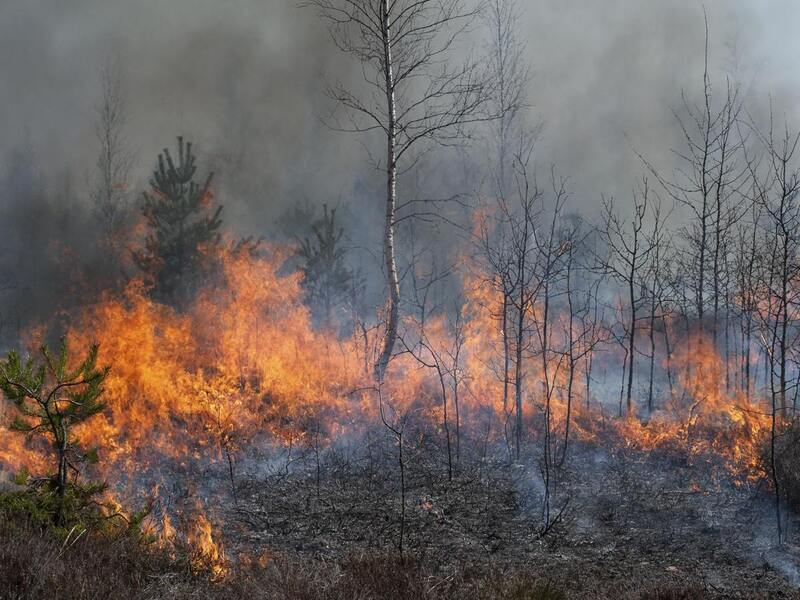fire: (100, 307, 746, 456)
